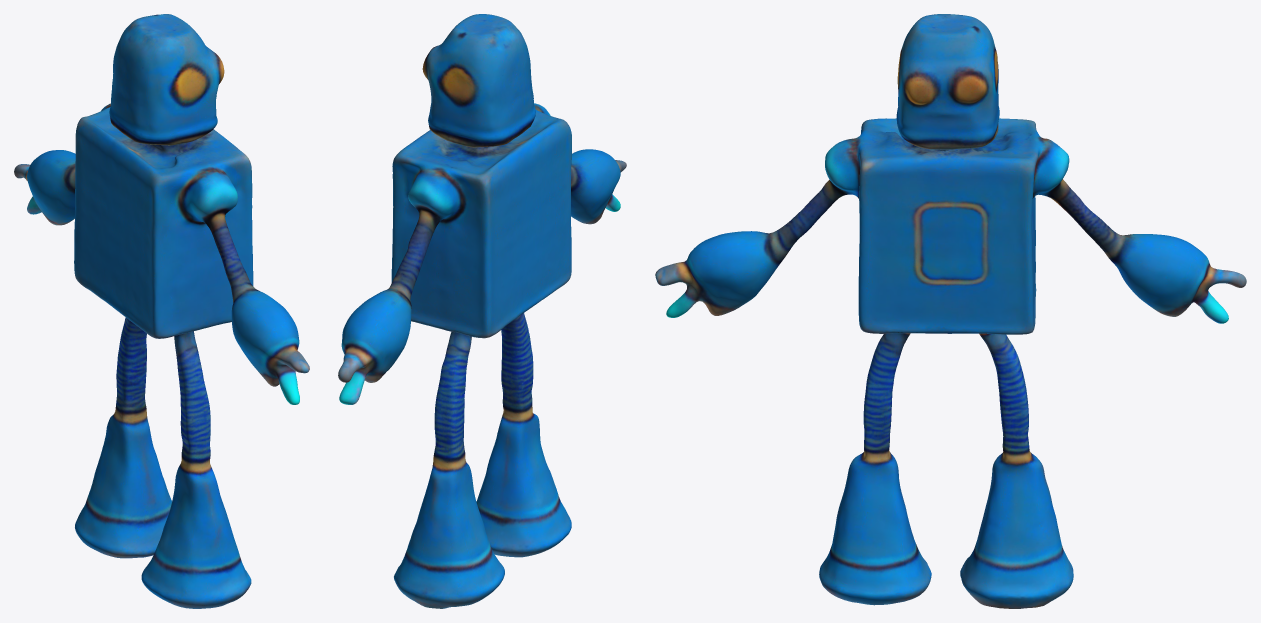
File: bemo.glb
3 renders of one model, left to right at view 1: azimuth 30°, elevation 25°; view 2: azimuth 150°, elevation 25°; view 3: azimuth 270°, elevation 25°, orthographic. The views are drawn at different scales.
Visible parts, largest first — view 1: high_poly; view 2: high_poly; view 3: high_poly.
Part boxes in pixels (<box>): high_poly: <box>14,14,309,608</box>; high_poly: <box>338,14,626,608</box>; high_poly: <box>655,14,1246,608</box>.
Bounding box in the file's own units: 0.1963 × 1 × 0.9477.
1 material, 1 textured.
